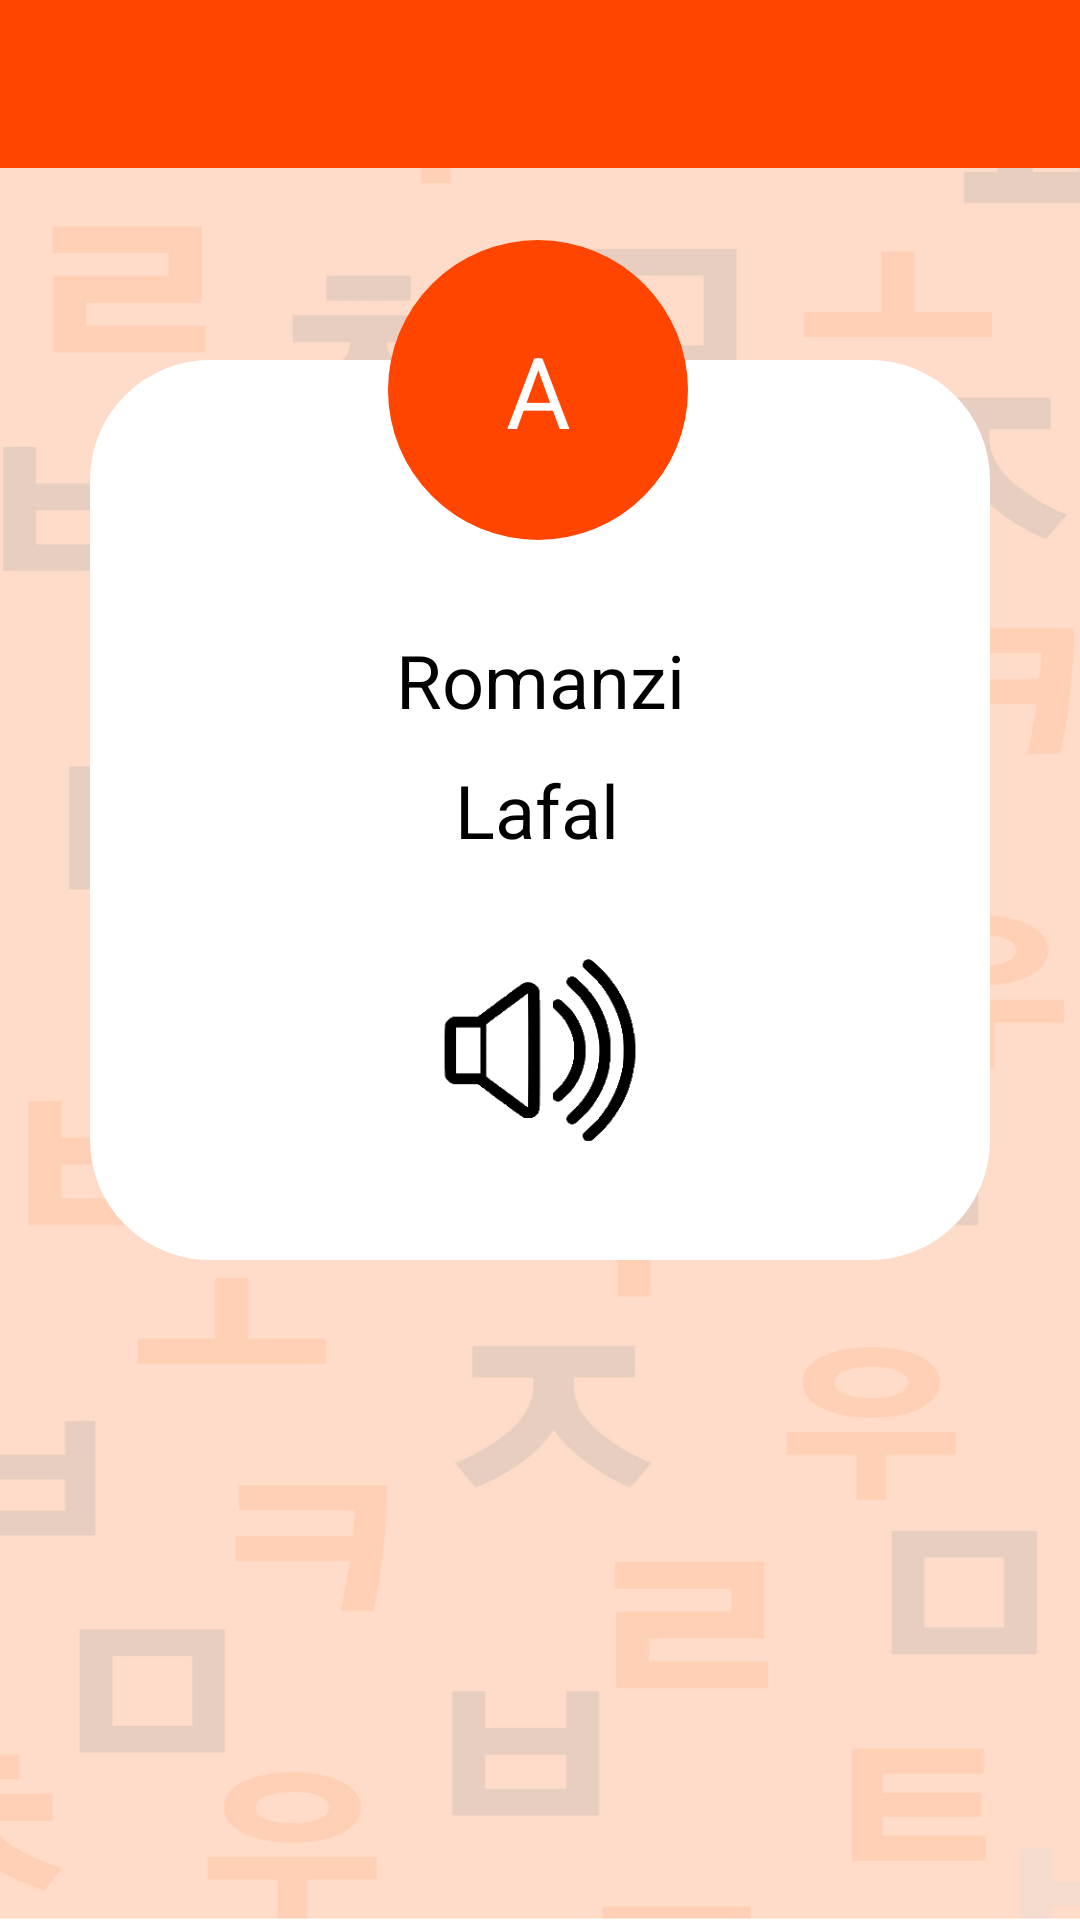

Icon bounding boxes for this 1080×1920 phone screenshot, format (x1, y1, x2, y2):
sound: (444, 959, 636, 1141)
